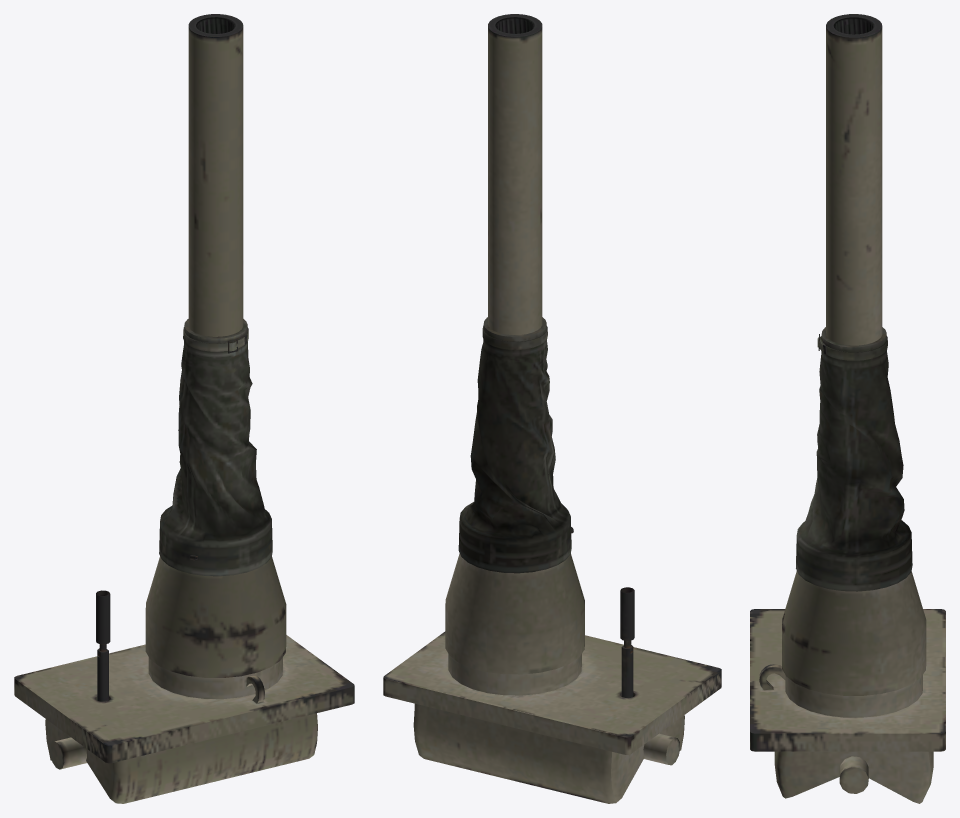
File: Gun_03.glb
3 renders of one model, left to right at view 1: azimuth 30°, elevation 25°; view 2: azimuth 150°, elevation 25°; view 3: azimuth 270°, elevation 25°, orthographic. The views are drawn at different scales.
Parts seen in each view (by area): view 1: set_0_group_0; view 2: set_0_group_0; view 3: set_0_group_0.
Part boxes in pixels (x1,y1,x2,y2): set_0_group_0: (14,14,354,803); set_0_group_0: (383,14,721,803); set_0_group_0: (750,14,945,803).
Size of the model in its own units: 0.5951 by 1.66 by 0.395.
1 material, 1 textured.
